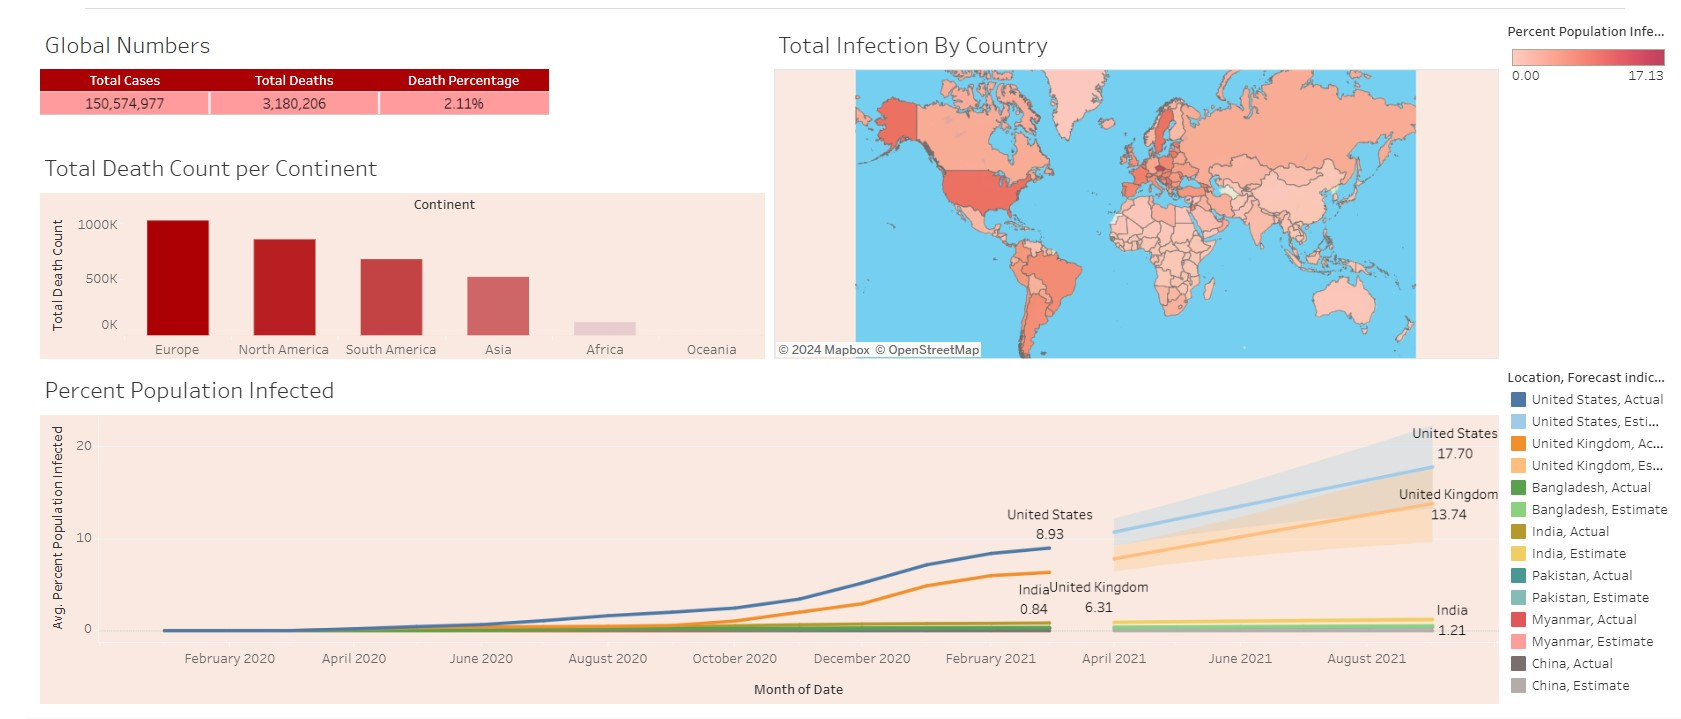

What the dashboard file says about the page in this screenshot:
{"tool":"tableau","page":{"name":"Dashboard 1","canvas":[1000,1000],"units":"permille","ordinal":0},"visuals":[{"type":"worksheet","title":"Global Numbers","mark":"Automatic","box":[4.8,9.9,449,175.1]},{"type":"worksheet","title":"Total Infection By Country","mark":"Automatic","box":[453.8,9.9,449.2,490.1]},{"type":"legend","title":"Total Infection By Country","param":"[federated.0rhd05s05h0ky01fg9jbv0ifkprw].[sum:PercentPopulationInfected:qk]","box":[903,9.9,92.3,490.1]},{"type":"worksheet","title":"Total Death Count per Continent","mark":"Automatic","rows":["TotalDeathCount"],"cols":["location"],"box":[4.8,185,449,315]},{"type":"worksheet","title":"Percent Population Infected","mark":"Automatic","rows":["PercentPopulationInfected"],"cols":["date"],"box":[4.8,500,898.2,490.1]},{"type":"legend","title":"Percent Population Infected","param":"[federated.11kd41v106vjl11dv1qpz0tnqjq5].[none:Location:nk]\n[federated.11kd41v10","box":[903,500,92.3,490.1]}]}

Visuals, with their boxes on the dashboard's canvas, which has no fixed pixel size, in thousandths of its width and height (x1, y1, x2, y2). These are canvas units, not pixel positions in the 1681x719 screenshot, which may show the page scaled, cropped or inside an application window:
"Global Numbers" worksheet: 5/10/454/185
"Total Infection By Country" worksheet: 454/10/903/500
"Total Infection By Country" legend: 903/10/995/500
"Total Death Count per Continent" worksheet: 5/185/454/500
"Percent Population Infected" worksheet: 5/500/903/990
"Percent Population Infected" legend: 903/500/995/990
